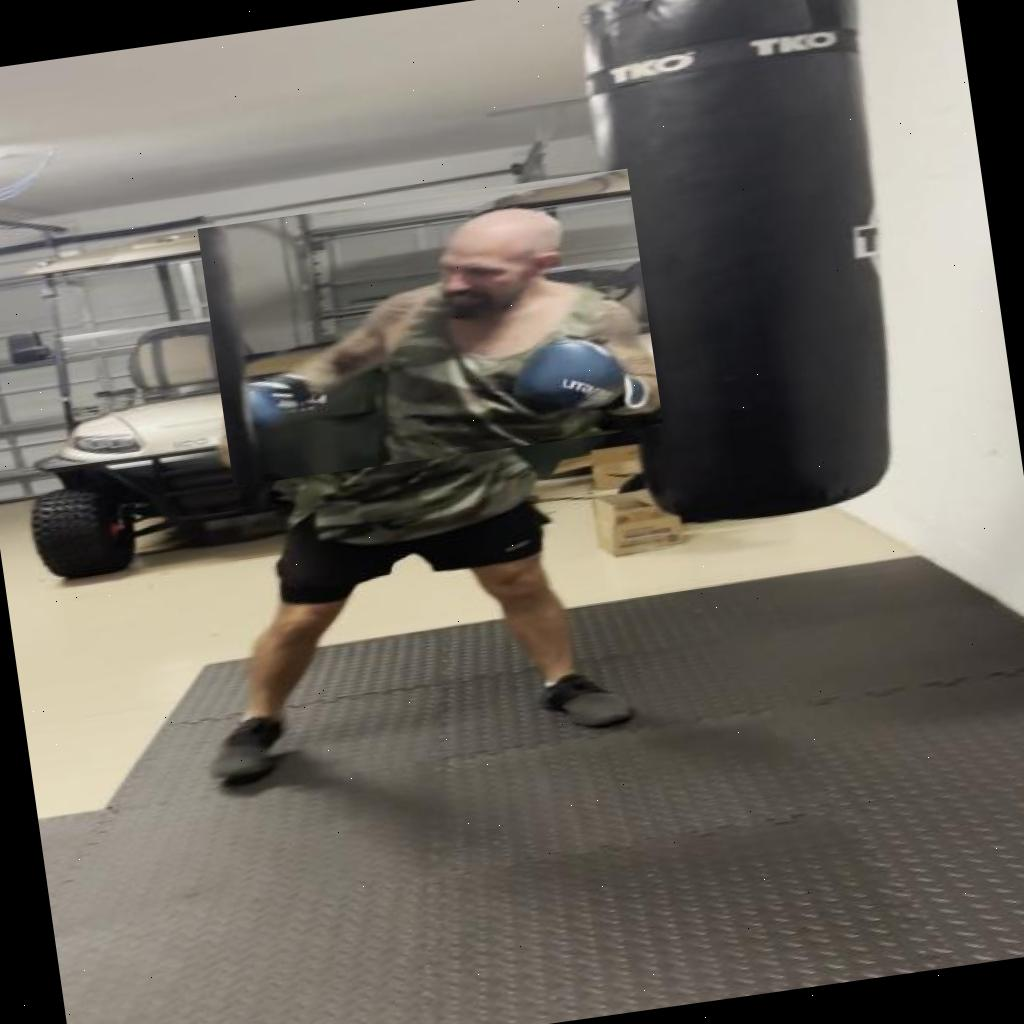bag: (565, 0, 932, 539)
hook: (197, 168, 664, 486)
